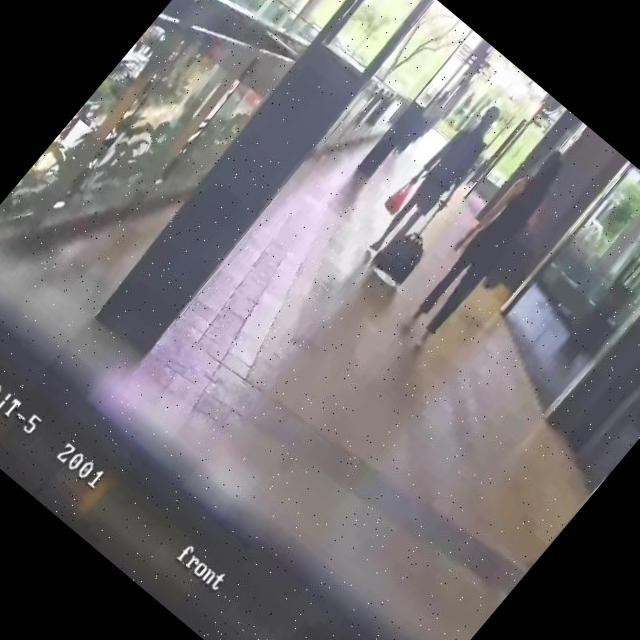person: (397, 137, 587, 349), (358, 93, 516, 270)
